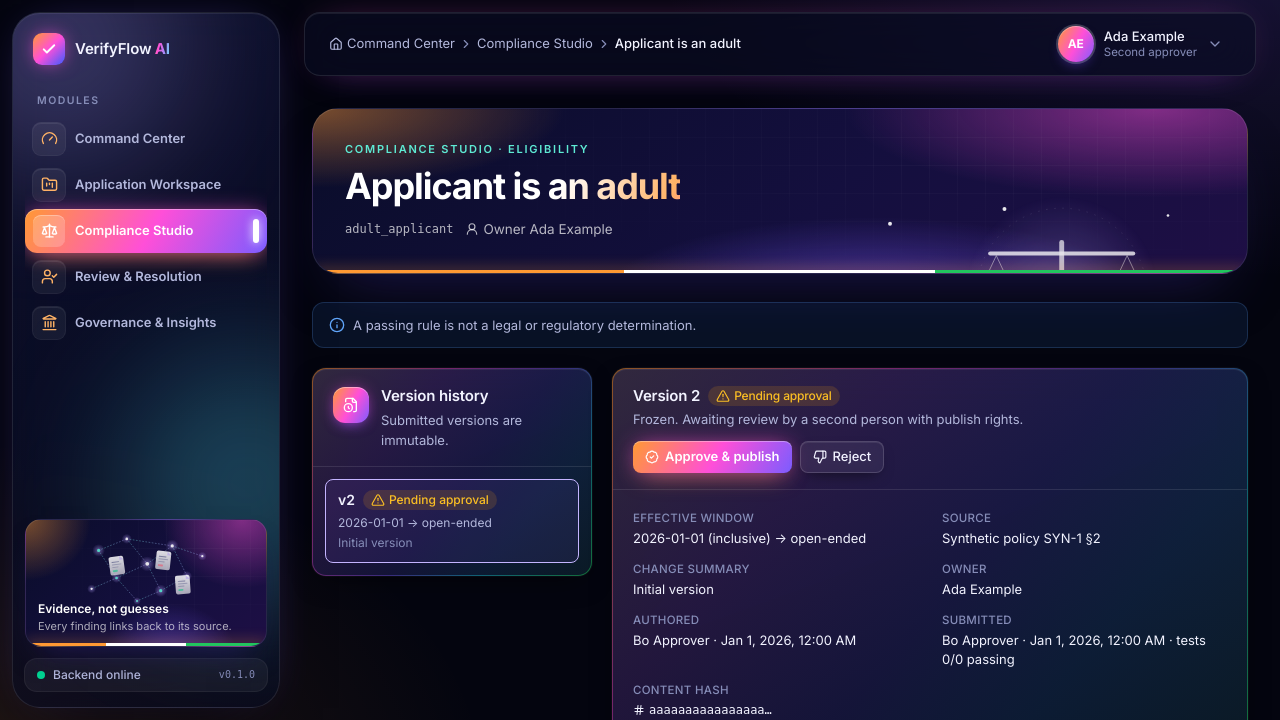
rule lifecycle › lets a different publisher approve with a review note
Click the button "Approve & publish" at (712,456), box x1=633 y1=440 x2=792 y2=472
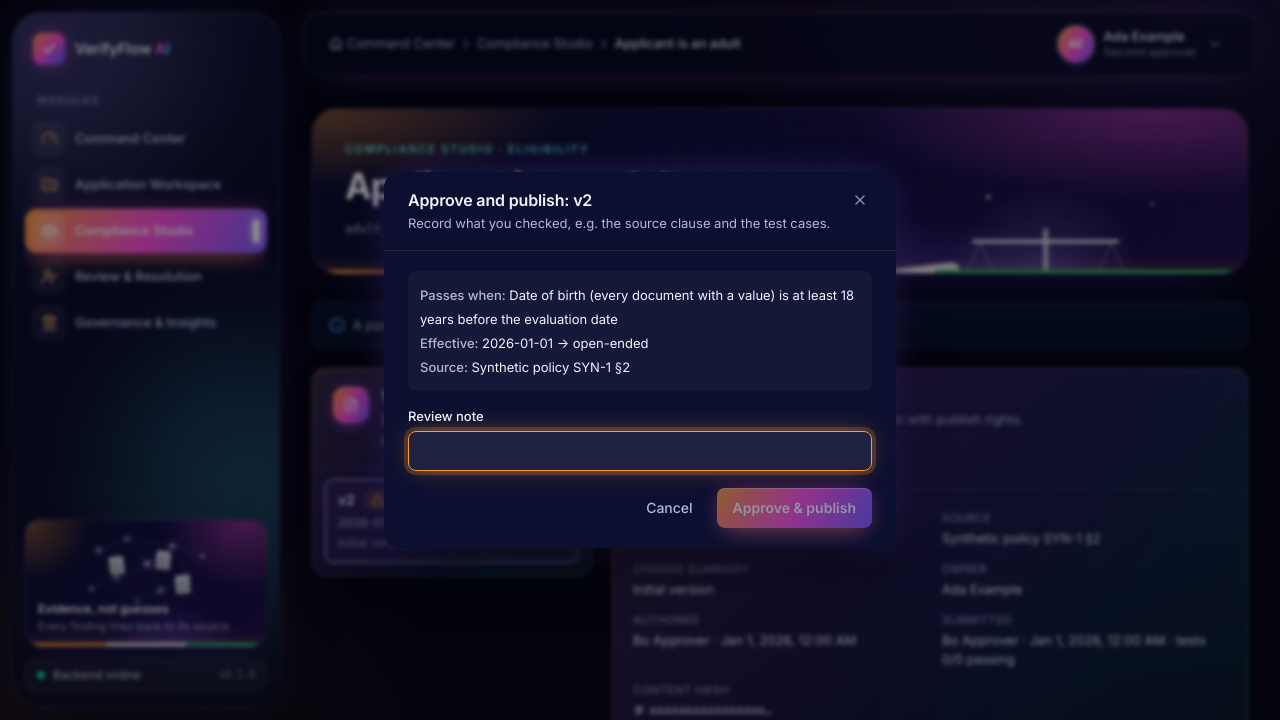
Type "Checked source clause" into the field labelled "Review note" at (640,451), box x1=408 y1=431 x2=872 y2=471
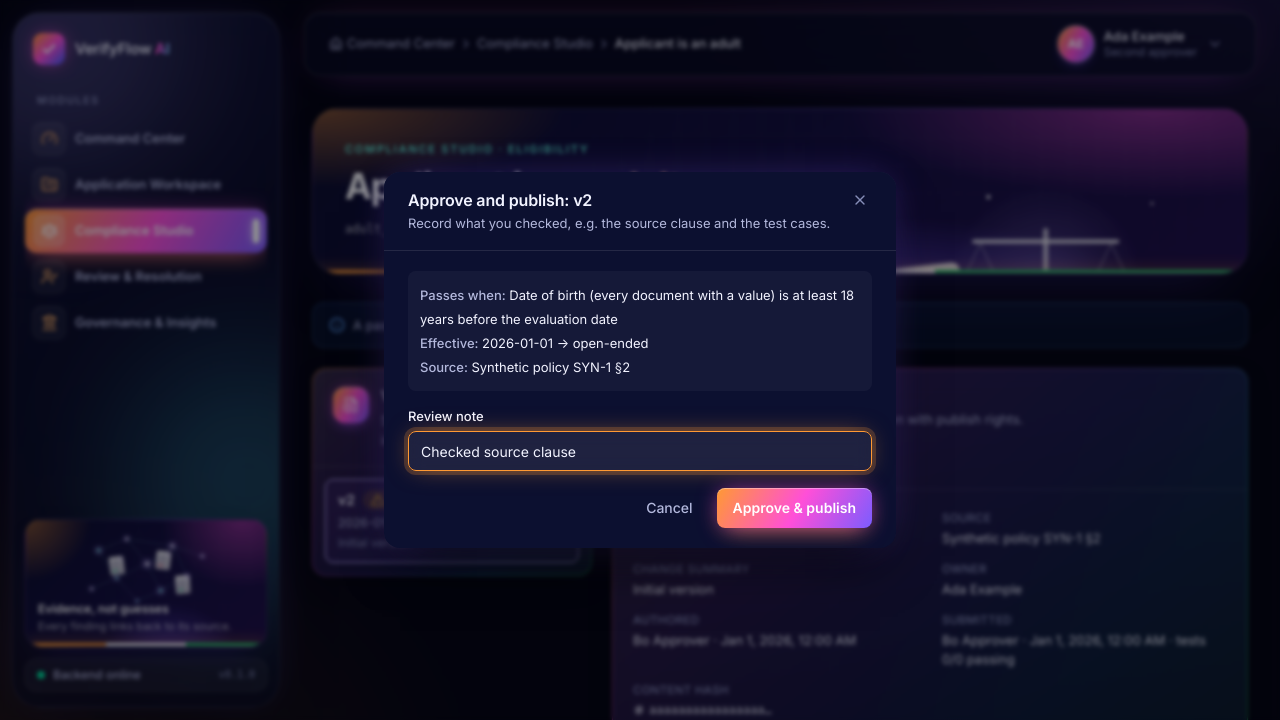
Click the button "Approve & publish" at (794,508), box x1=717 y1=488 x2=872 y2=528
(page scrolled)
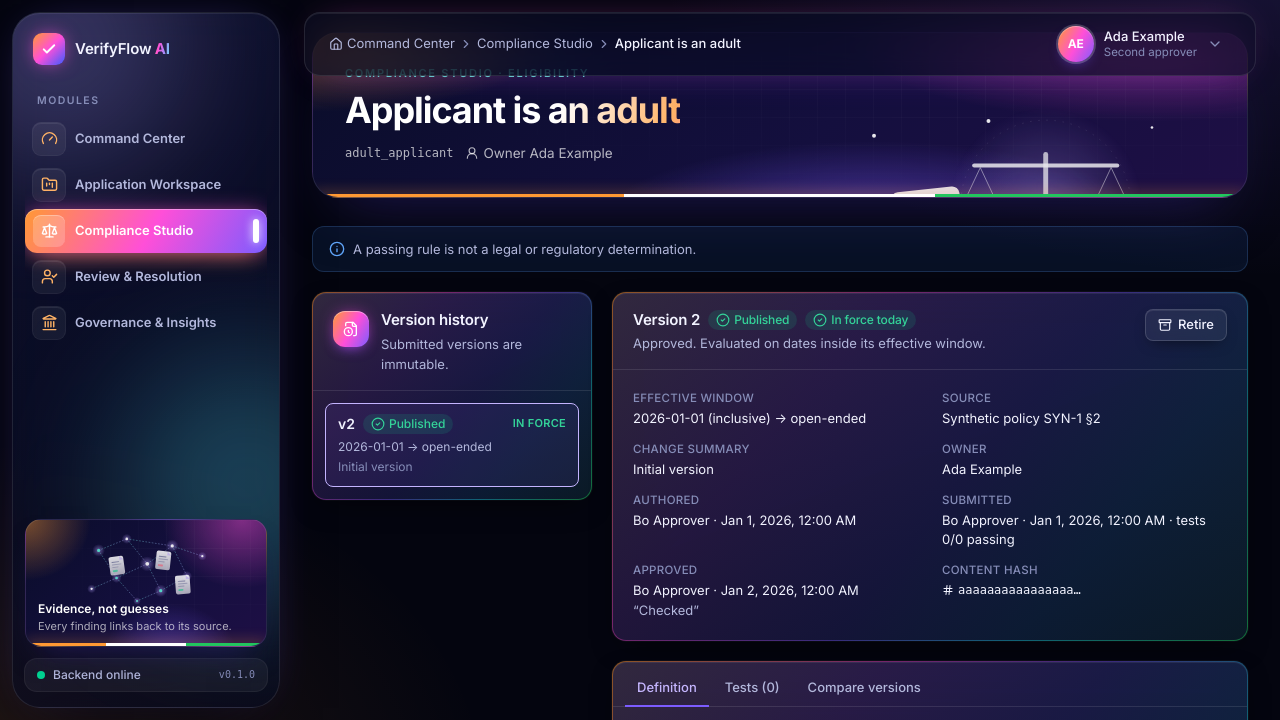
Expected: the text "In force today" is shown, x1=805 y1=310 x2=916 y2=330
